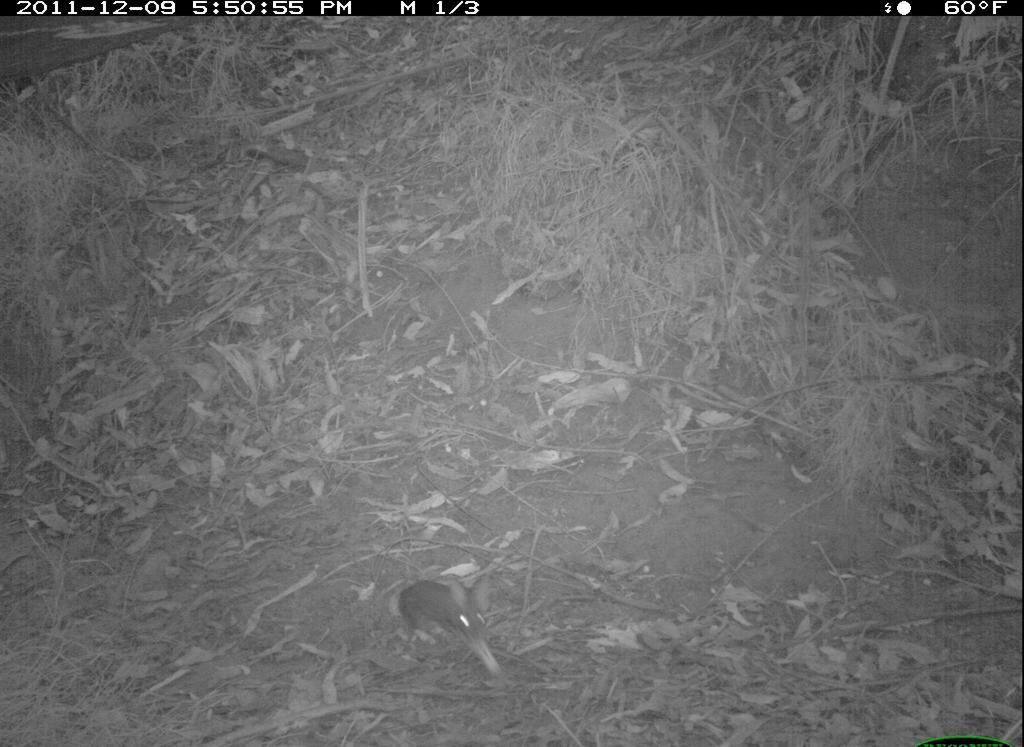rabbit: (395, 570, 514, 679)
